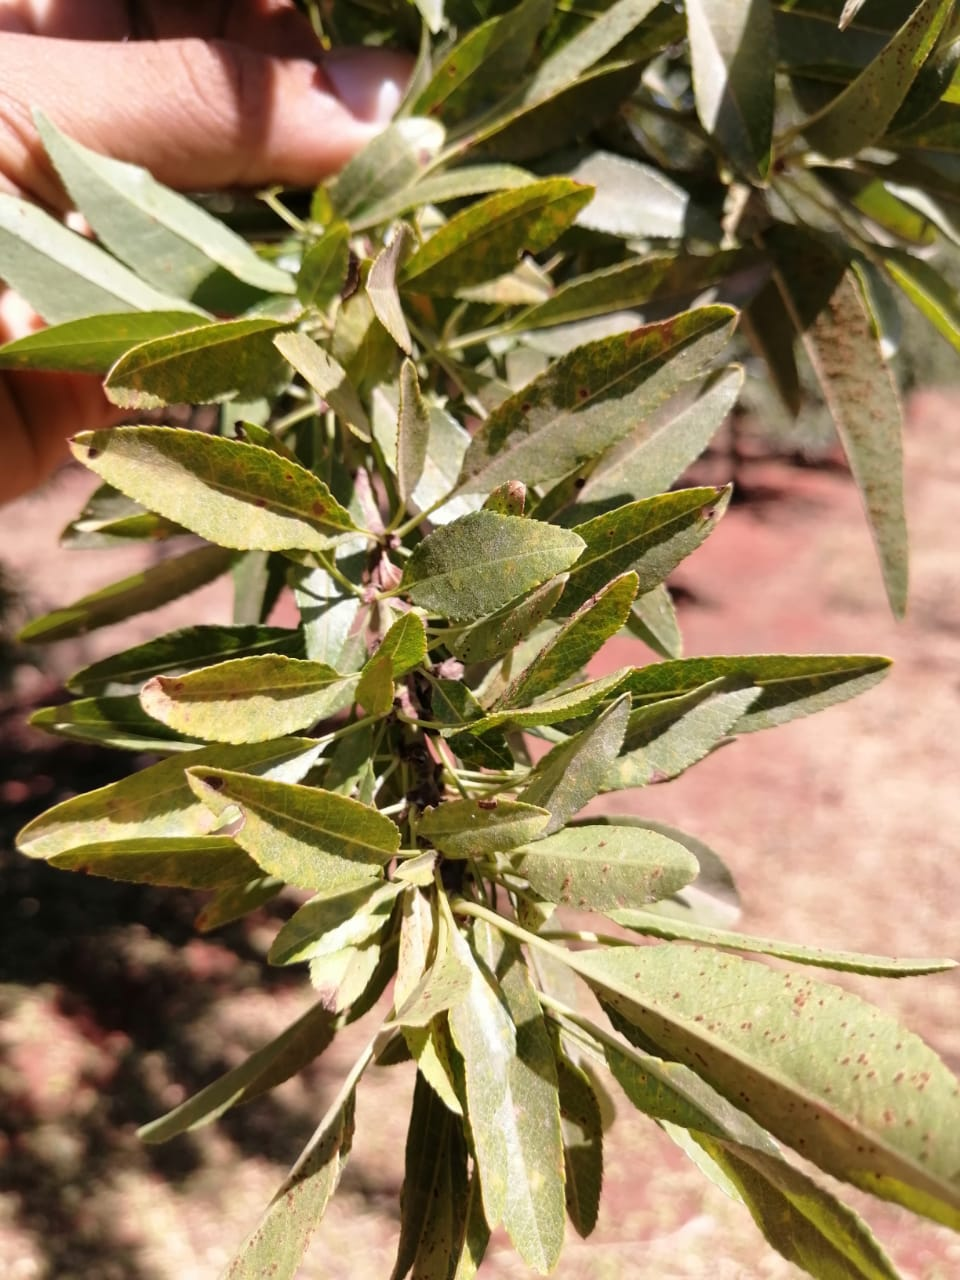rouille: (565, 941, 960, 1231), (746, 208, 911, 622), (451, 304, 744, 498), (222, 1022, 395, 1280), (67, 426, 357, 556), (487, 569, 636, 719), (137, 653, 351, 746), (509, 822, 701, 911), (411, 1, 561, 114), (322, 114, 445, 227), (409, 796, 552, 860)
